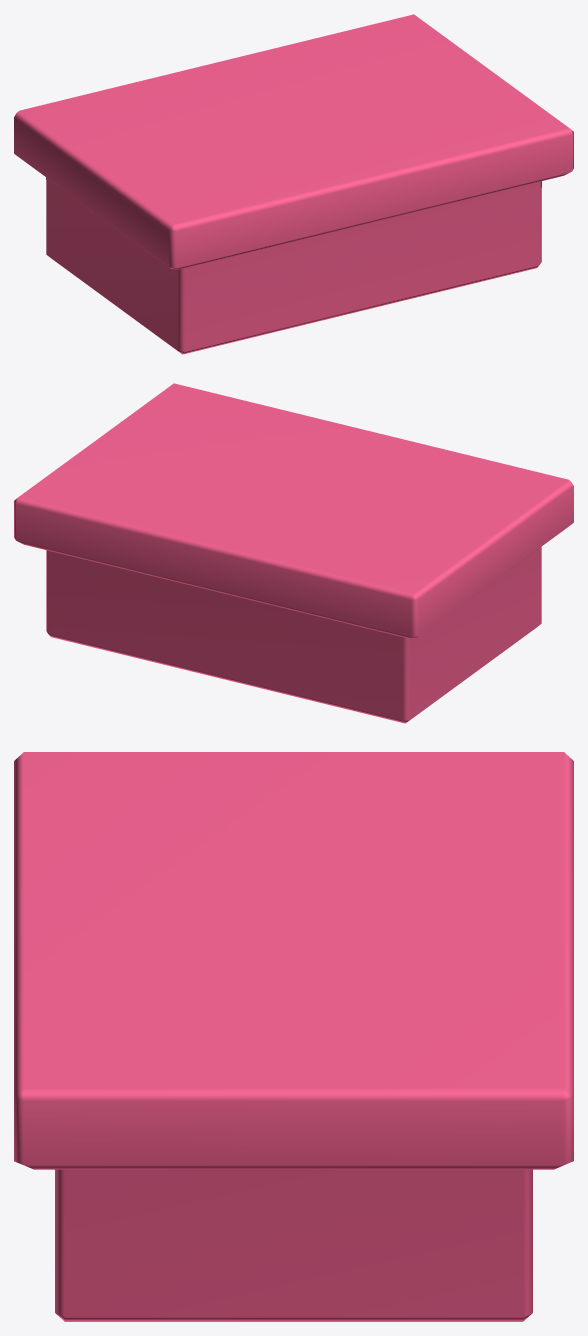
File: Public_6_Box_6.glb
3 views of the same model, one above another, from view 1: azimuth 30°, elevation 25°; view 2: azimuth 150°, elevation 25°; view 3: azimuth 270°, elevation 25° (orthographic). The views are drawn at different scales.
Parts seen in each view (by area): view 1: Public_6_Box_6; view 2: Public_6_Box_6; view 3: Public_6_Box_6.
Boxes of the visible parts, x1,y1,x2,y2 form: Public_6_Box_6: [14, 14, 573, 354]; Public_6_Box_6: [14, 383, 573, 723]; Public_6_Box_6: [14, 752, 573, 1321].
Bounding box in the file's own units: 2.14 × 0.7267 × 1.47.
Materials: 1 (1 with a texture image).
